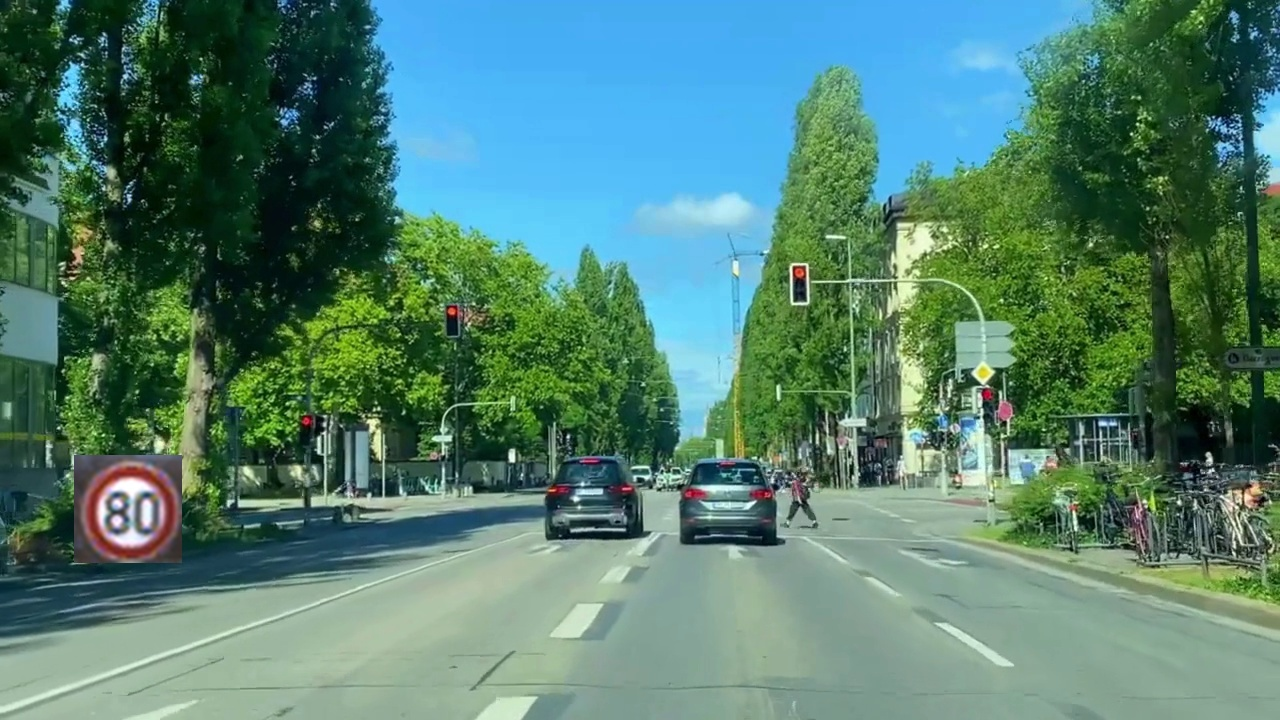Speed 80: (74, 455, 182, 563)
